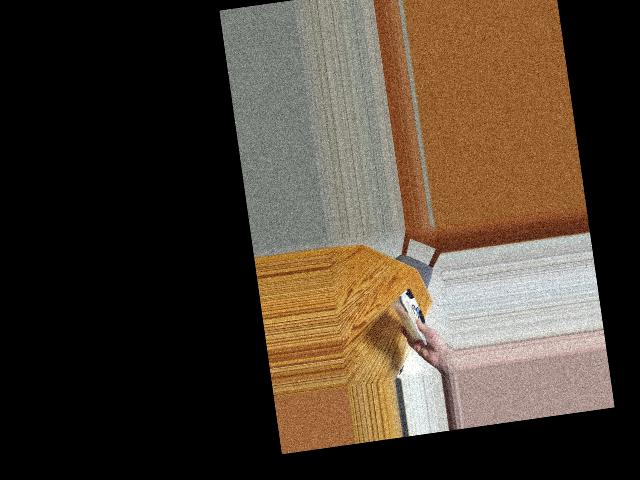cheese: (388, 288, 437, 344)
